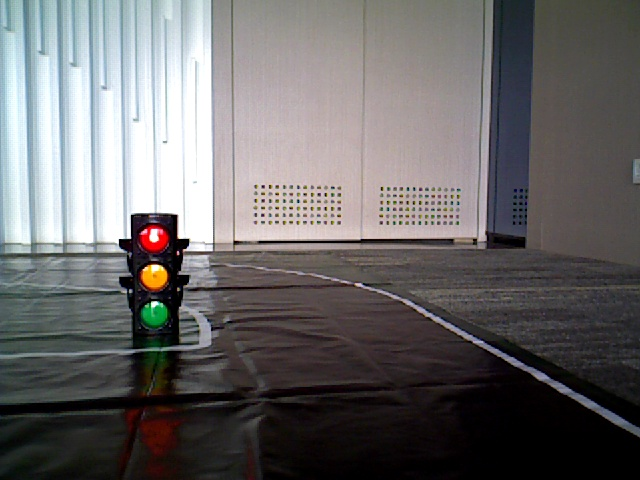red: (132, 217, 176, 335)
